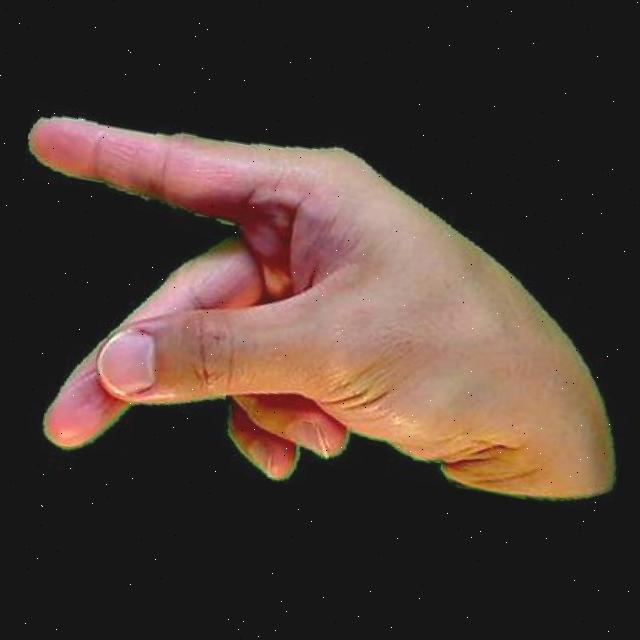p: (0, 72, 640, 562)
